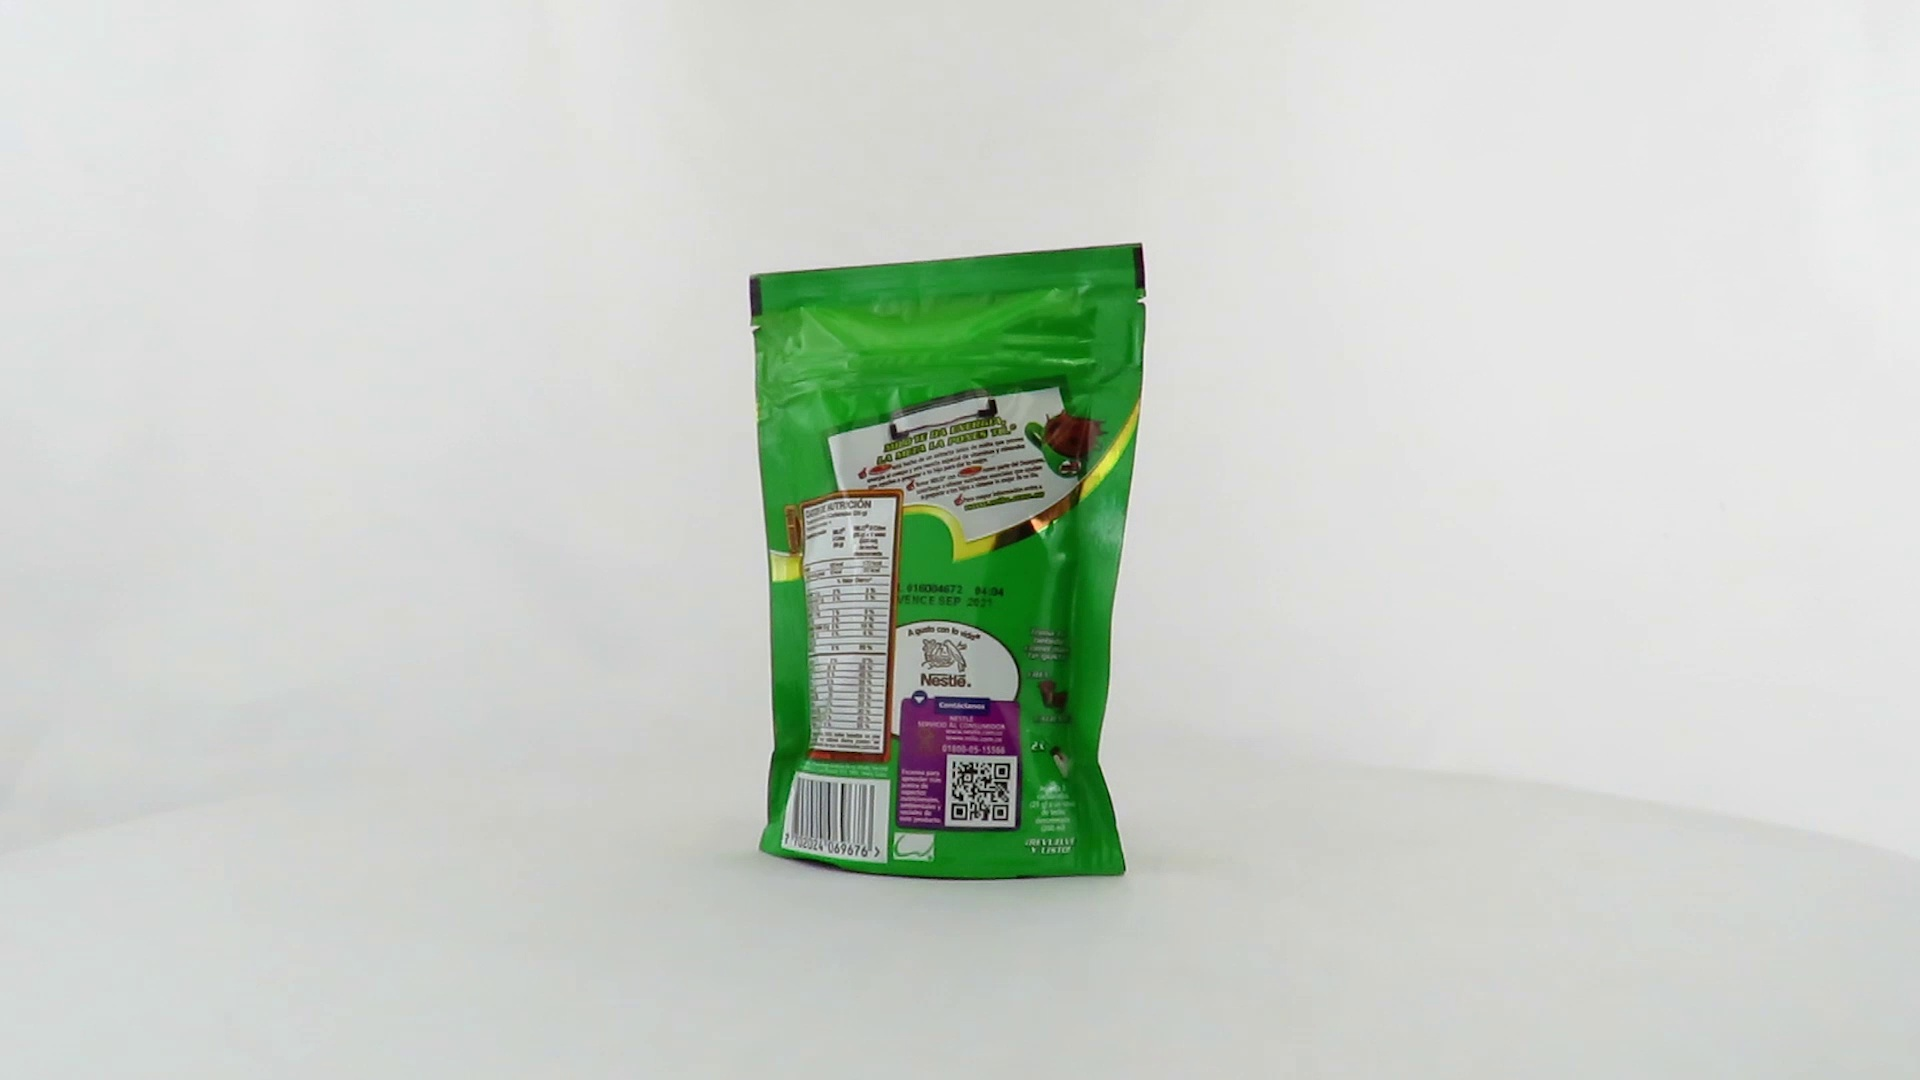COL0170203DYP10000: (744, 237, 1153, 887)
